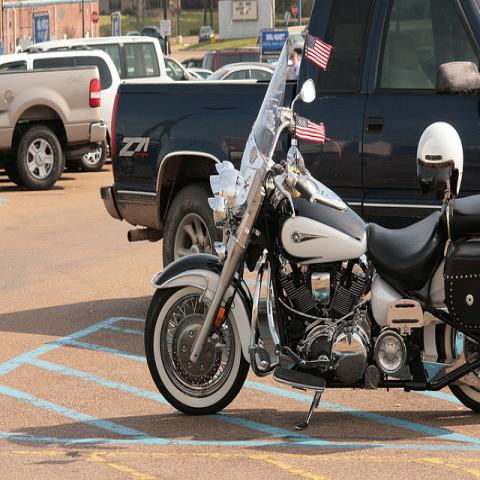car: (0, 50, 120, 172), (23, 31, 175, 86), (206, 61, 277, 85), (202, 47, 260, 74), (164, 57, 210, 84), (185, 68, 213, 82)
motorcycle: (139, 31, 479, 443)
truck: (100, 0, 479, 269), (0, 66, 107, 194)
